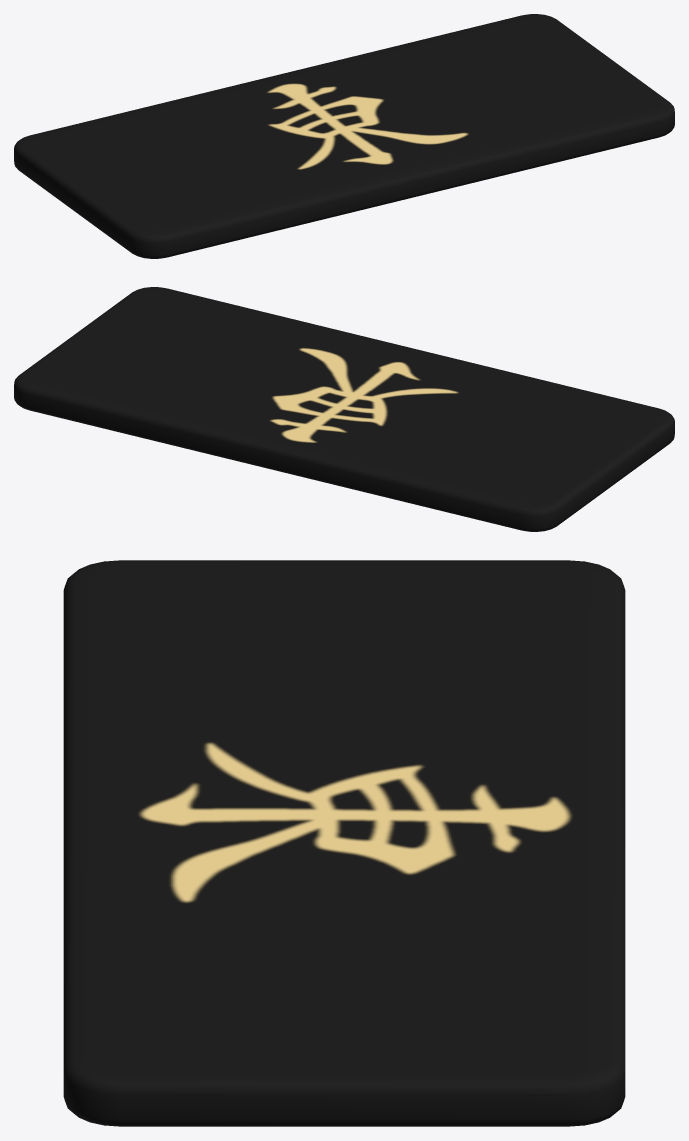
Rendered from StartingPlayerCard.glb.
The picture shows the model from 3 angles, top to bottom: view 1: azimuth 30°, elevation 25°; view 2: azimuth 150°, elevation 25°; view 3: azimuth 270°, elevation 25°; orthographic projection. The views are drawn at different scales.
Parts seen in each view (by area): view 1: SM_StartingPlayerCard; view 2: SM_StartingPlayerCard; view 3: SM_StartingPlayerCard.
Part boxes in pixels (bbox=[...]): SM_StartingPlayerCard: bbox=[14, 14, 674, 258]; SM_StartingPlayerCard: bbox=[14, 287, 674, 531]; SM_StartingPlayerCard: bbox=[63, 560, 625, 1126].
Size of the model in its own units: 0.0668 by 0.00268 by 0.03.
1 material, 1 textured.
